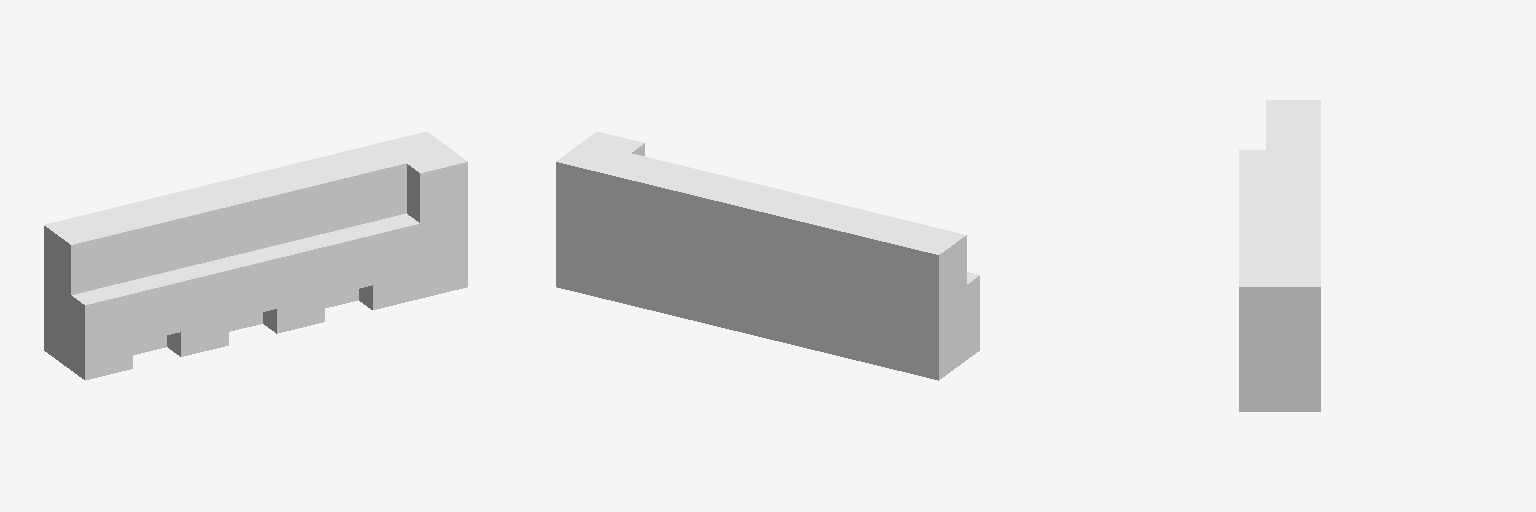
File: CeilingBitsFrontCorner2.obj
The picture shows the model from 3 angles: view 1: azimuth 30°, elevation 25°; view 2: azimuth 150°, elevation 25°; view 3: azimuth 270°, elevation 25°; orthographic projection.
Visible parts, largest first — view 1: object 1; view 2: object 1; view 3: object 1.
Boxes of the visible parts, <box> form: object 1: <box>44,131,467,380</box>; object 1: <box>556,131,979,380</box>; object 1: <box>1239,100,1320,411</box>.
Bounding box in the file's own units: 1.6 × 0.5 × 0.3.